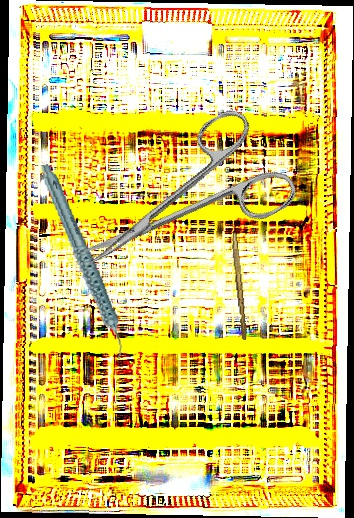Handpiece: (39, 157, 125, 367)
Iris Scissors: (53, 99, 303, 306)
Scalpel Handle: (228, 231, 250, 341)
